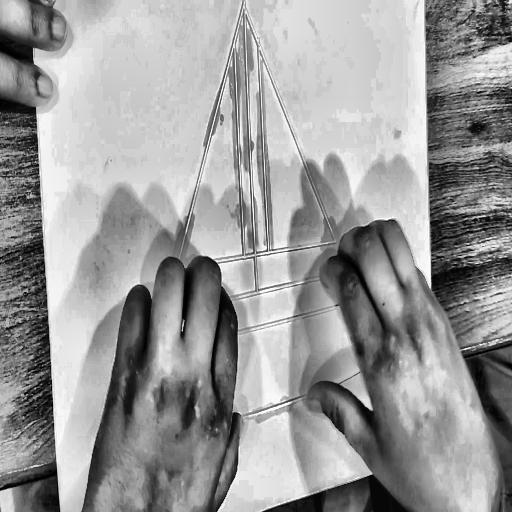boat: (113, 0, 410, 460)
bottom_right: (435, 440, 445, 456)
